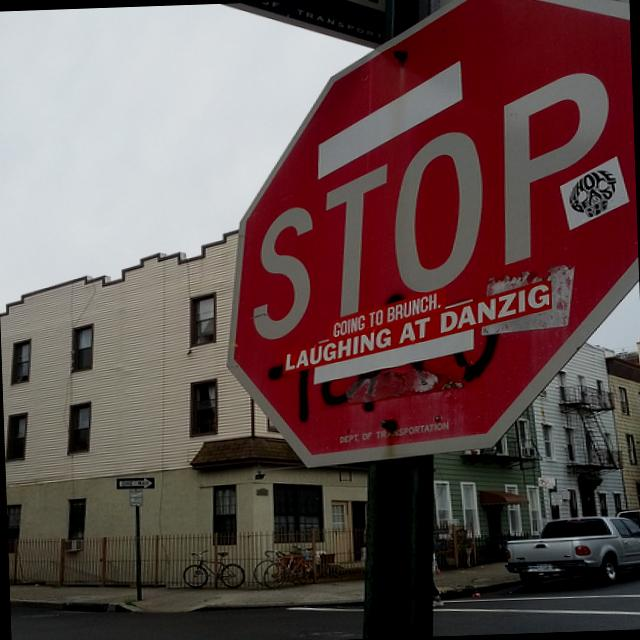Vehicle: (510, 513, 640, 584), (614, 506, 640, 566)
